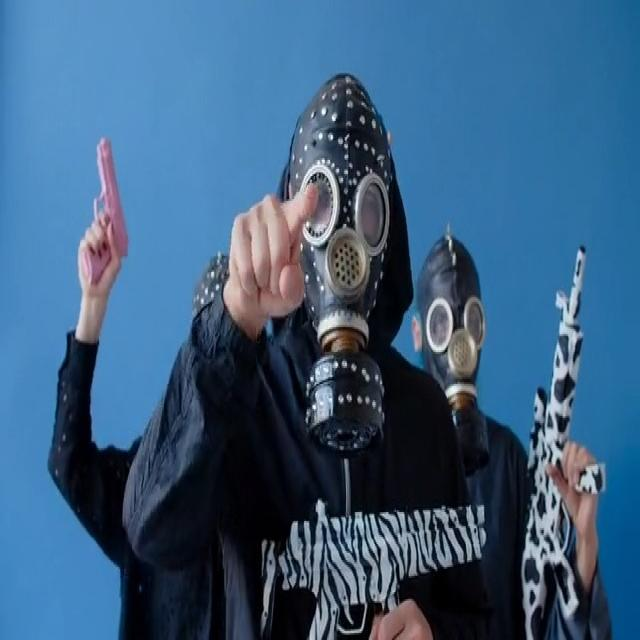Gun_Holder: (503, 224, 621, 640), (58, 120, 140, 312)
Person: (130, 86, 483, 640), (415, 211, 613, 640)
